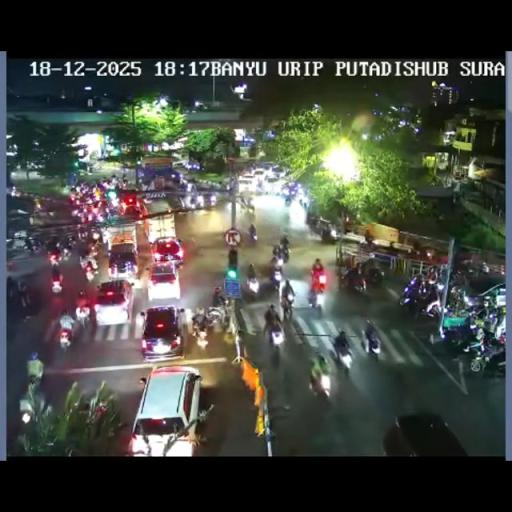Car: (128, 363, 202, 454), (384, 413, 470, 455), (138, 305, 185, 361), (6, 240, 48, 289), (94, 280, 134, 325), (147, 262, 183, 303), (106, 242, 140, 280), (150, 236, 185, 266), (118, 191, 143, 217), (264, 173, 282, 191), (251, 168, 267, 185), (238, 175, 254, 192)
Motorcycle: (239, 251, 298, 312), (400, 278, 442, 319), (19, 358, 45, 423), (465, 336, 504, 374), (437, 312, 475, 347), (462, 299, 504, 329), (86, 396, 110, 432), (308, 362, 330, 396), (332, 339, 353, 373), (447, 285, 471, 314), (342, 268, 366, 294), (362, 330, 382, 360), (205, 304, 227, 330), (266, 321, 284, 349), (191, 320, 209, 348), (364, 265, 385, 288), (310, 258, 325, 290), (77, 238, 96, 261), (74, 300, 92, 324), (450, 268, 469, 289), (50, 264, 64, 292), (470, 322, 486, 346), (280, 294, 294, 320), (18, 288, 32, 314), (58, 325, 72, 350), (82, 260, 97, 282), (246, 271, 259, 296), (320, 224, 337, 243), (80, 207, 98, 224), (6, 277, 18, 302), (270, 268, 283, 290), (47, 248, 62, 266), (307, 287, 319, 308), (212, 286, 224, 307), (105, 202, 119, 220), (424, 268, 438, 284), (24, 236, 36, 254), (59, 246, 71, 262), (270, 254, 282, 270), (70, 206, 82, 220), (280, 247, 290, 263), (101, 226, 111, 242), (228, 176, 238, 192), (364, 229, 373, 246), (246, 194, 254, 212), (194, 194, 205, 207), (298, 195, 308, 209), (248, 228, 258, 242), (280, 234, 290, 248), (184, 181, 195, 193), (255, 181, 265, 194), (90, 230, 100, 243), (452, 190, 461, 204), (480, 262, 490, 274), (284, 194, 293, 206), (209, 194, 217, 204), (121, 178, 128, 189)
